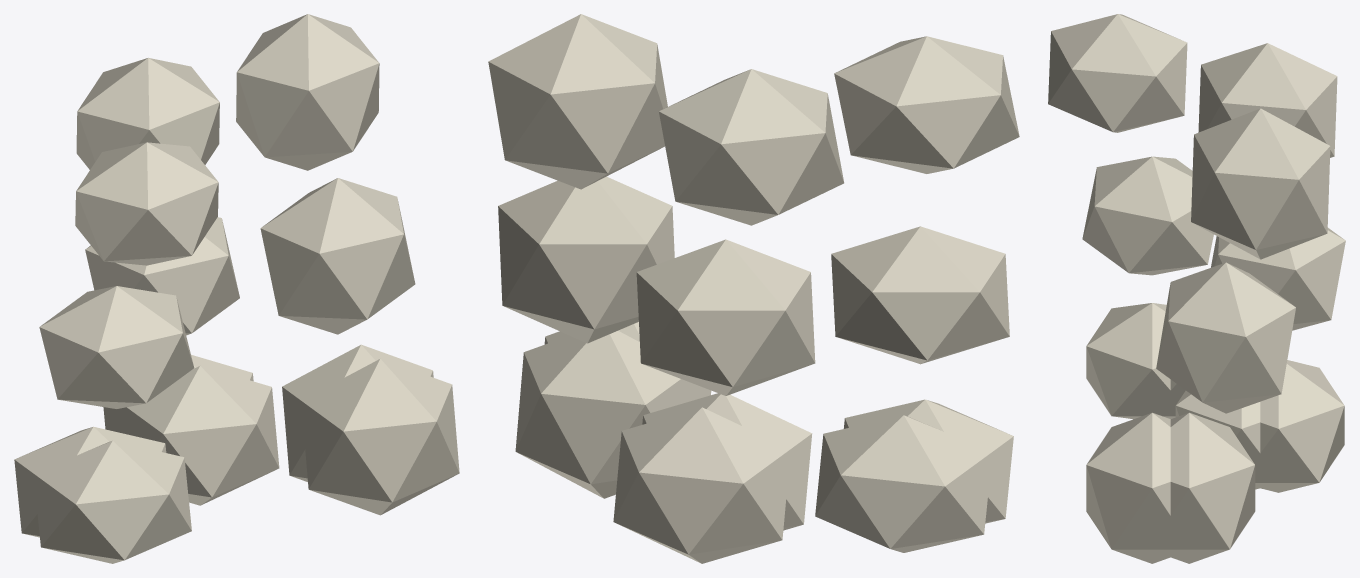
The model's file is Mineral_Limestone.fbx.
3 views of the same model, side by side, from view 1: azimuth 30°, elevation 25°; view 2: azimuth 150°, elevation 25°; view 3: azimuth 270°, elevation 25° (orthographic). The views are drawn at different scales.
Visible parts, largest first — view 1: Mineral_Limestone__Stack, Mineral_Limestone; view 2: Mineral_Limestone__Stack, Mineral_Limestone; view 3: Mineral_Limestone__Stack, Mineral_Limestone.
Part boxes in pixels (bbox=[...]): Mineral_Limestone__Stack: bbox=[14, 14, 433, 537]; Mineral_Limestone: bbox=[33, 358, 459, 563]; Mineral_Limestone__Stack: bbox=[488, 14, 1019, 563]; Mineral_Limestone: bbox=[544, 322, 1013, 530]; Mineral_Limestone__Stack: bbox=[1048, 14, 1345, 563]; Mineral_Limestone: bbox=[1086, 303, 1282, 563].
Size of the model in its own units: 0.1537 by 0.1658 by 0.0999.
